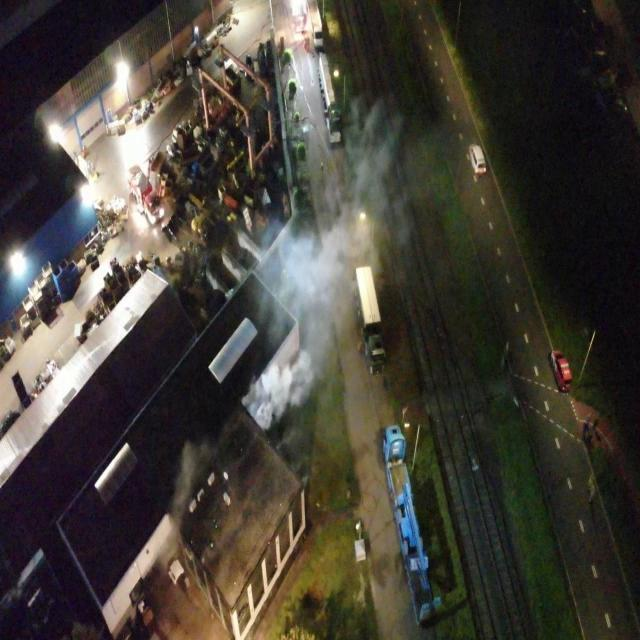Smoke: (240, 95, 414, 432), (157, 440, 210, 570)
